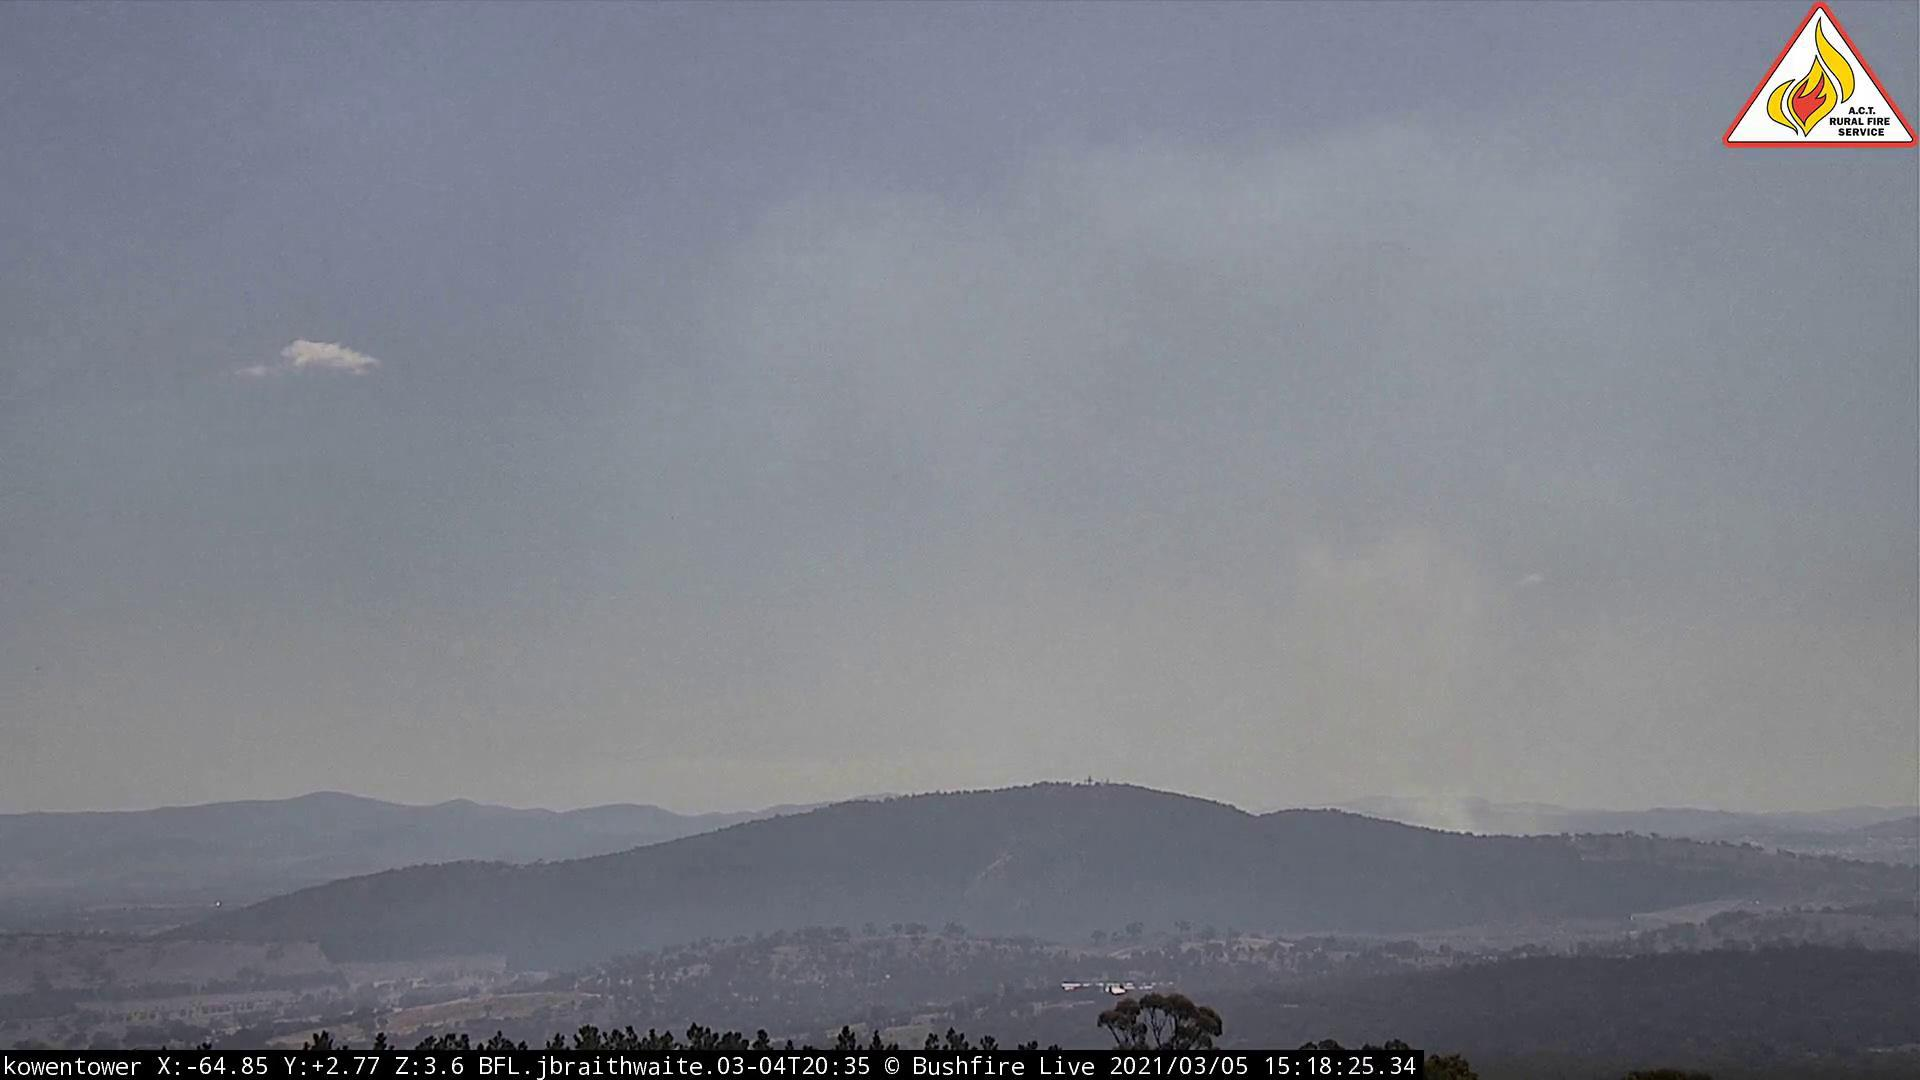Smoke: (1133, 465, 1553, 843)
